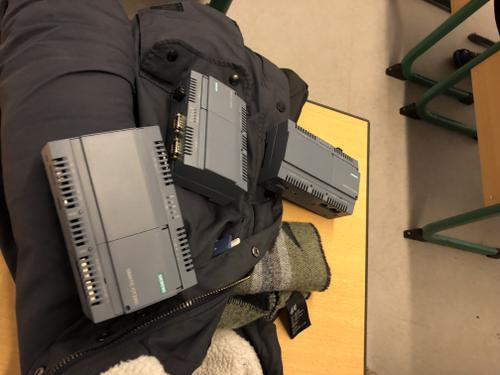device: (41, 126, 198, 324), (165, 70, 248, 207), (257, 119, 361, 220)
